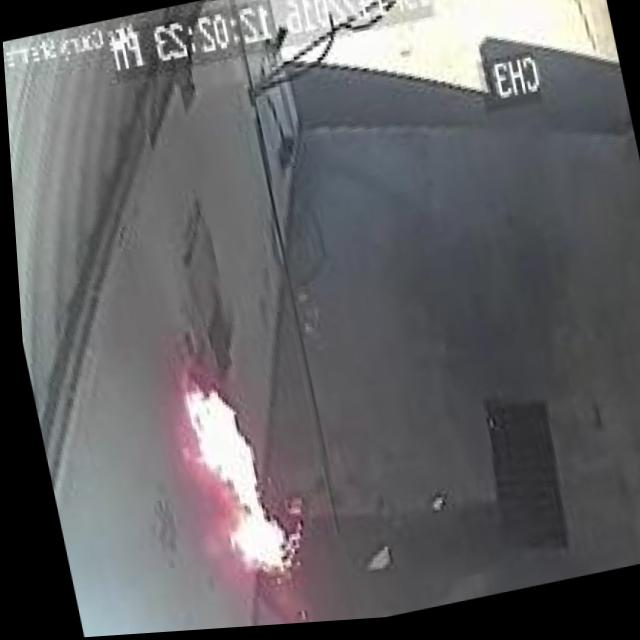fire: (151, 350, 296, 609)
